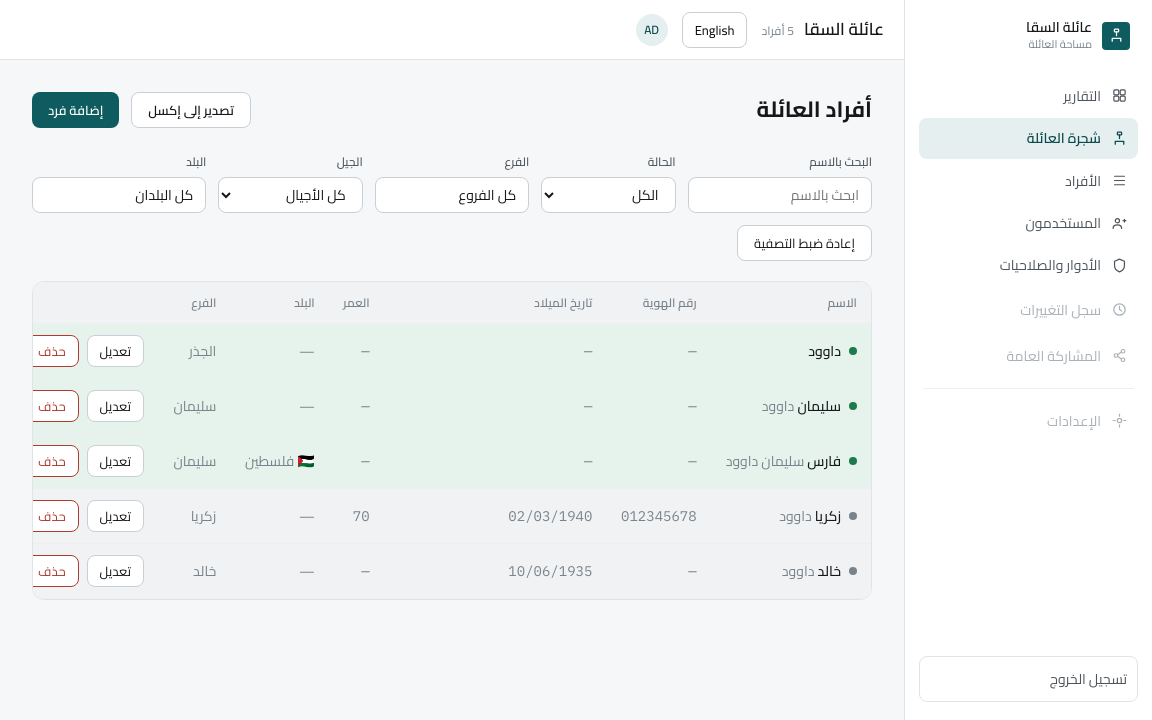
Test: MembersPage filters › says the list is filtered rather than empty when a filter matches nothing
Select "متوفى" in the dropdown labelled "الحالة" at (608, 195), box x1=541 y1=177 x2=676 y2=213
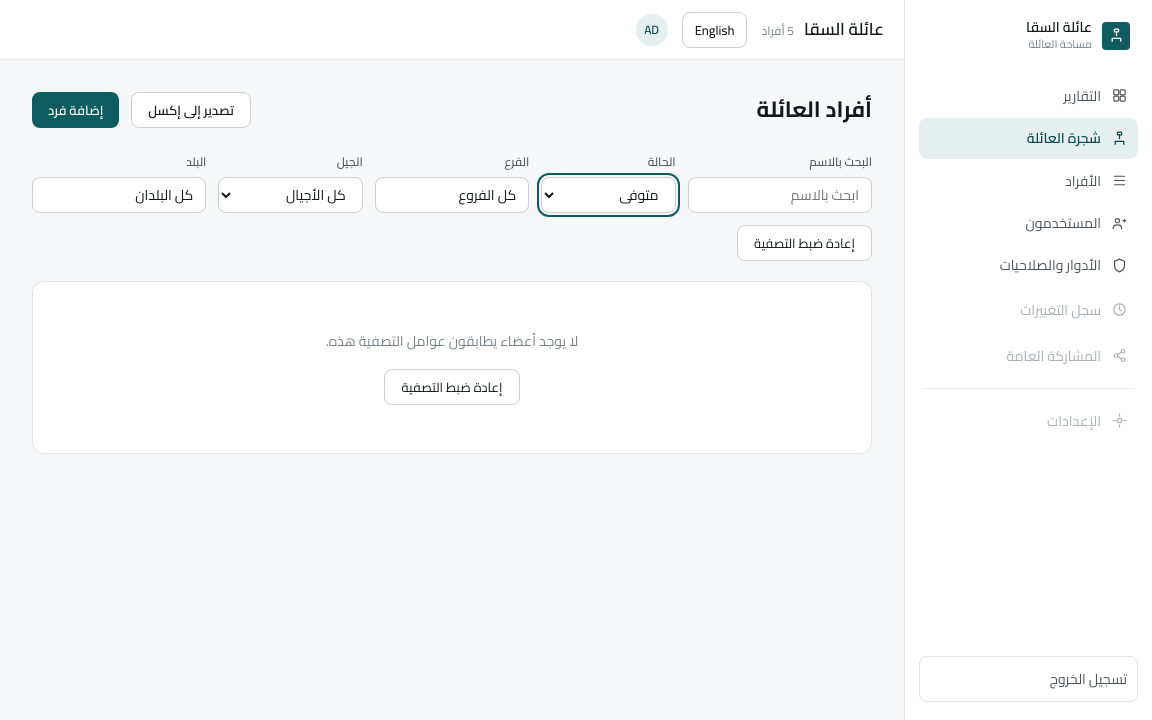
Check: the text "لا يوجد أعضاء يطابقون عوامل التصفية هذه." is shown, box x1=326 y1=328 x2=578 y2=354
